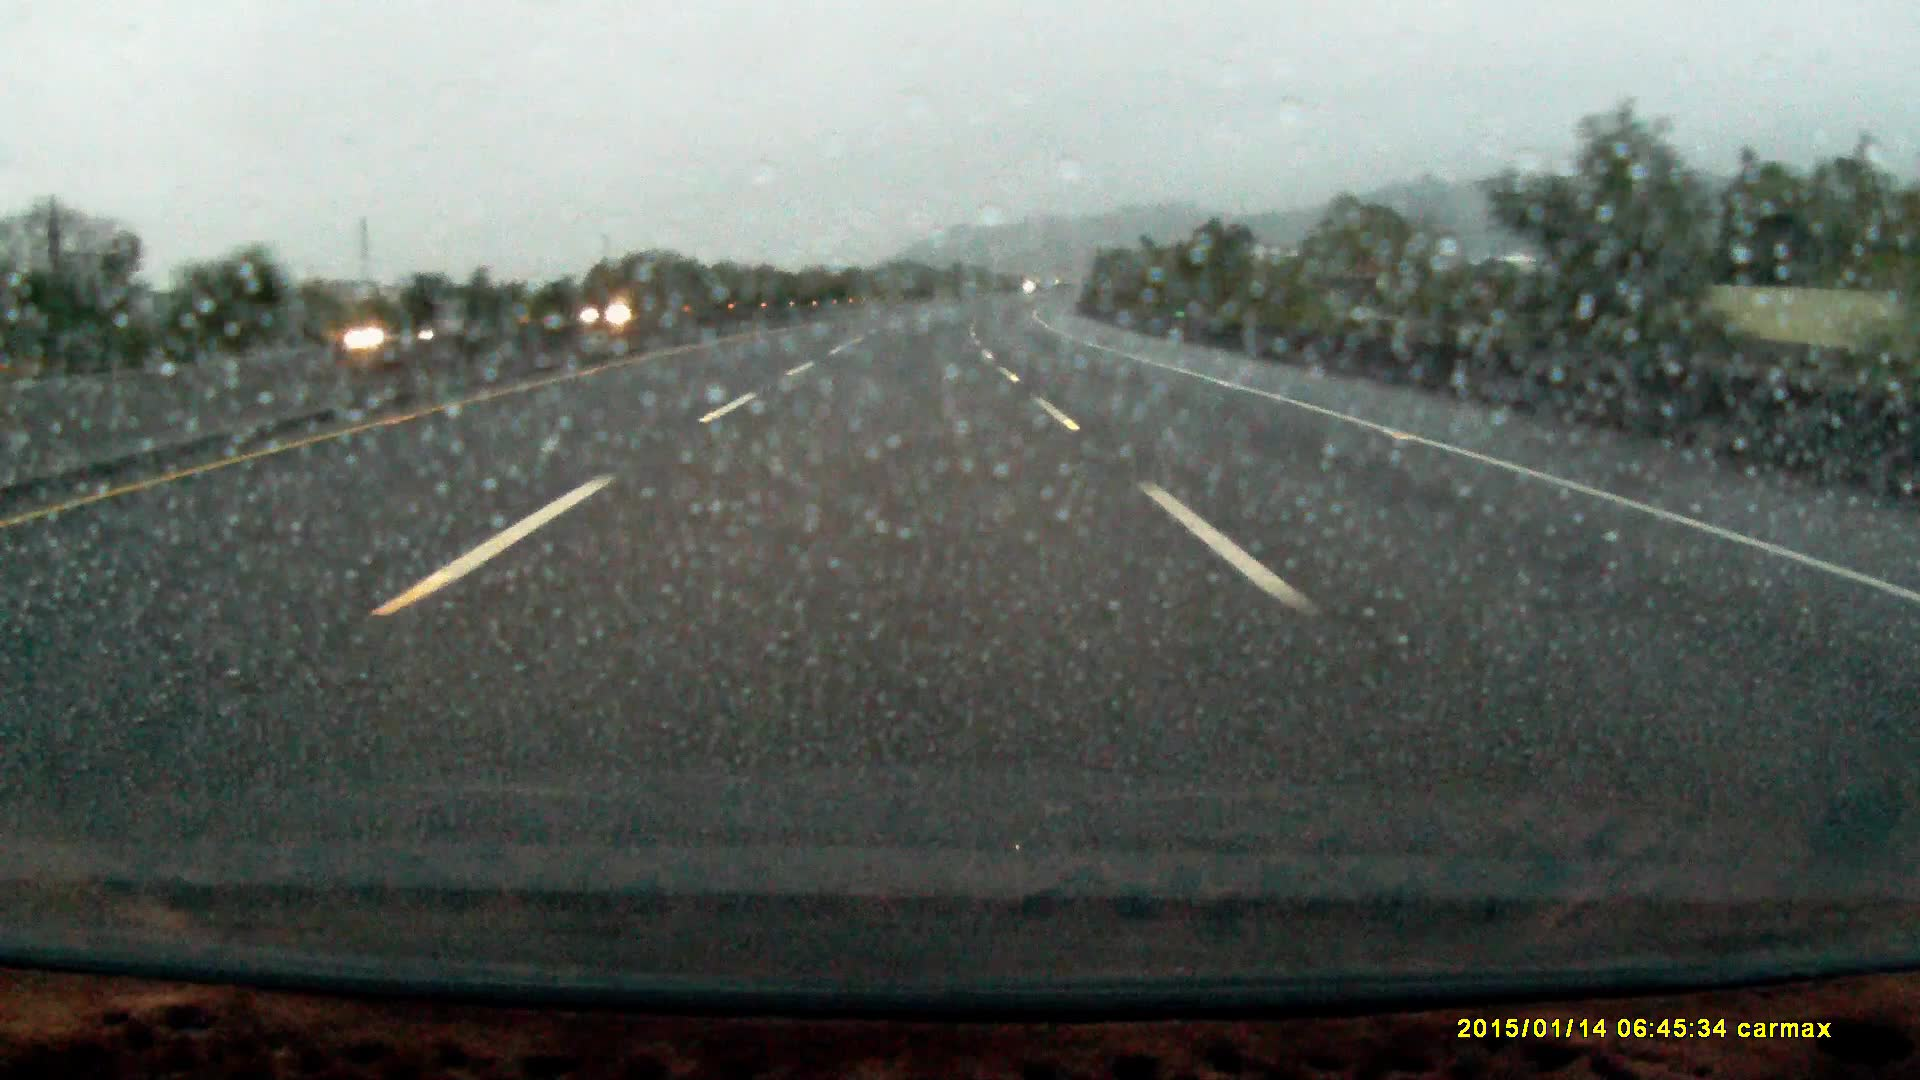vehicle: (342, 299, 508, 349), (578, 295, 655, 327)
